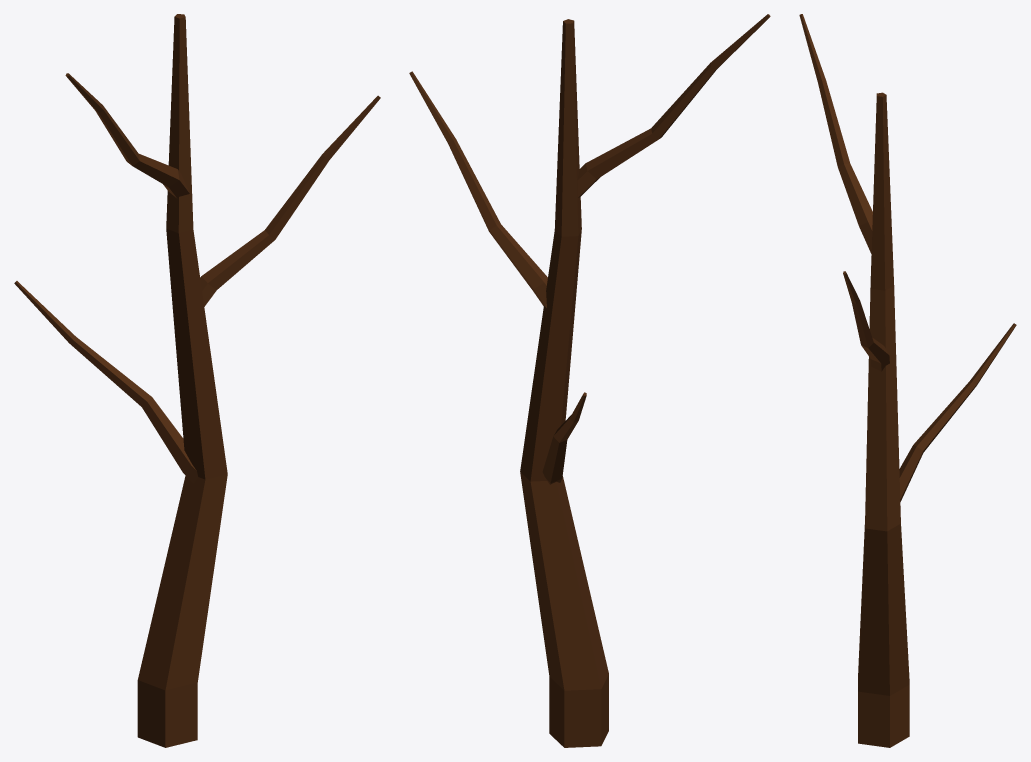
Rendered from tree4.fbx.
3 views of the same model, side by side, from view 1: azimuth 30°, elevation 25°; view 2: azimuth 150°, elevation 25°; view 3: azimuth 270°, elevation 25° (orthographic). The views are drawn at different scales.
Visible parts, largest first — view 1: Cylinder.001; view 2: Cylinder.001; view 3: Cylinder.001.
Part boxes in pixels (x1=…): Cylinder.001: x1=14, y1=14, x2=380, y2=747; Cylinder.001: x1=409, y1=14, x2=770, y2=747; Cylinder.001: x1=799, y1=14, x2=1016, y2=747.
Size of the model in its own units: 625 by 1286 by 384.
